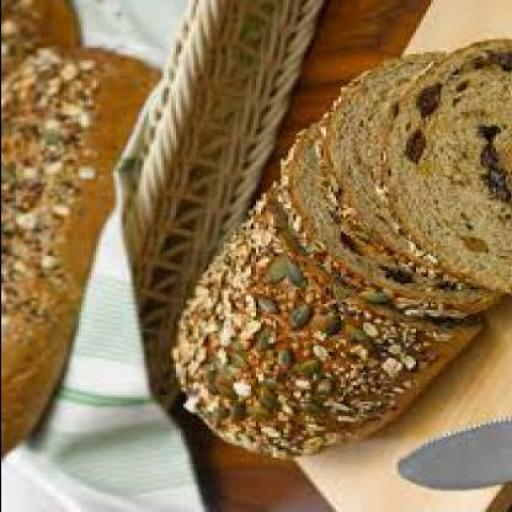biodegradable: (165, 185, 482, 460), (2, 52, 162, 466), (310, 54, 510, 293), (273, 116, 499, 323), (366, 40, 510, 300), (1, 1, 75, 86)
